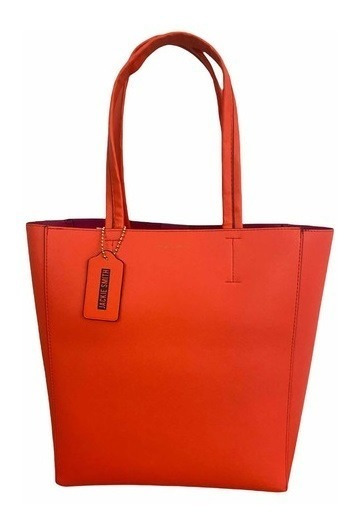cartera: (24, 32, 335, 492)
